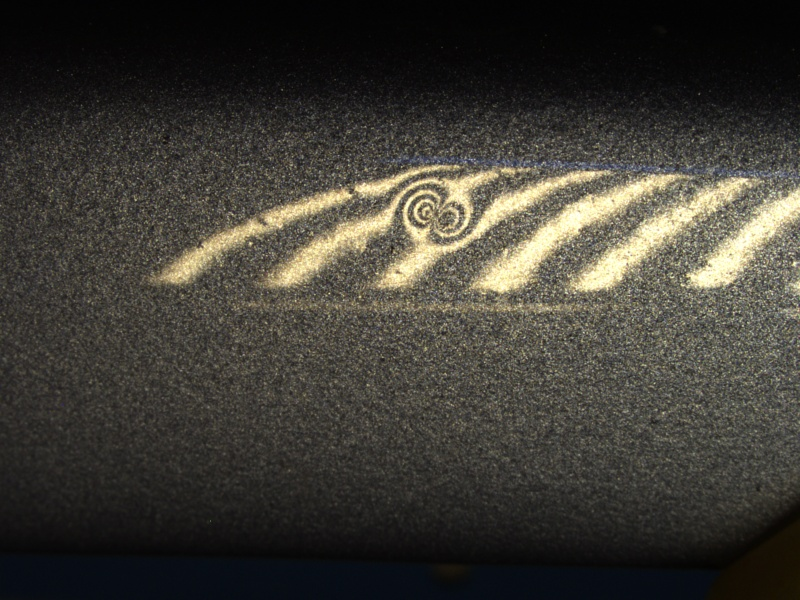bad: (388, 175, 486, 253)
